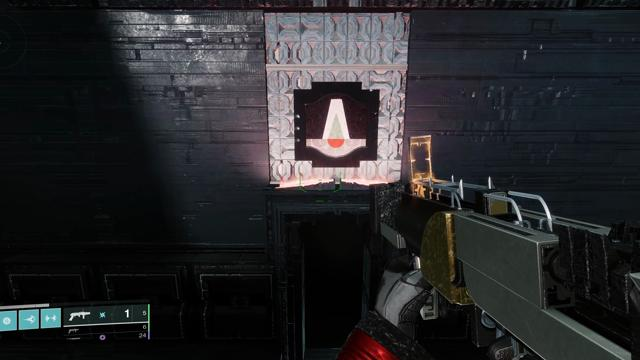enter: (305, 93, 368, 158)
